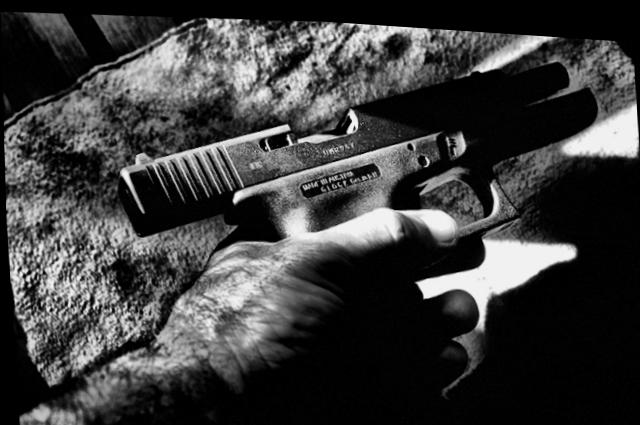pistol: (100, 10, 622, 279)
